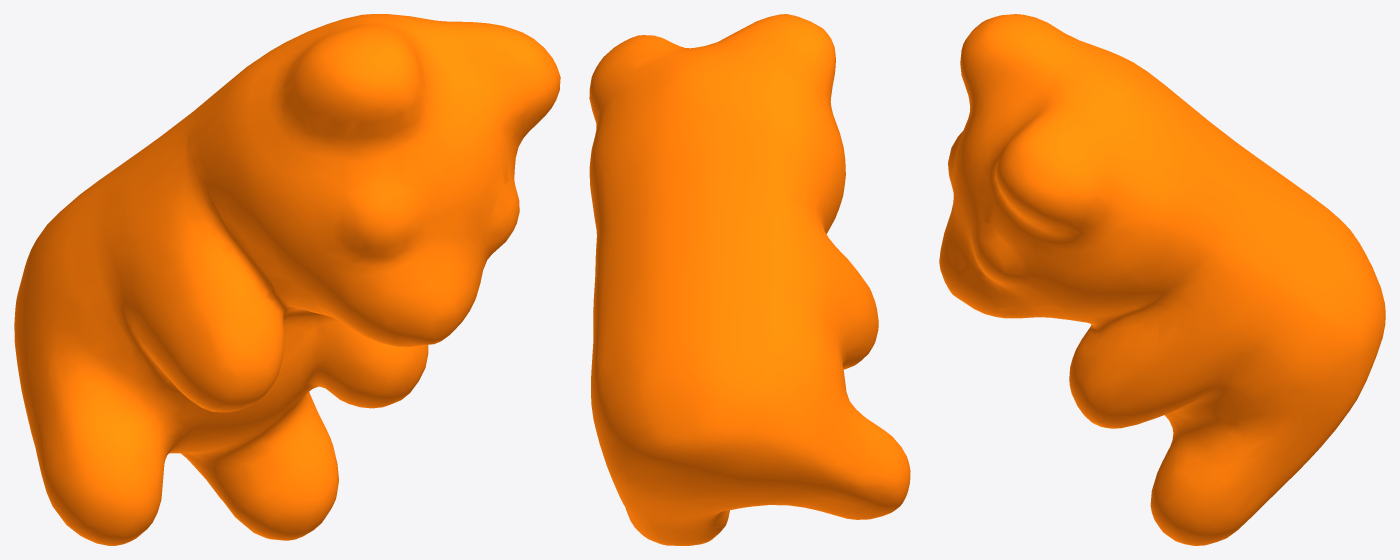
3 renders of one model, left to right at view 1: azimuth 30°, elevation 25°; view 2: azimuth 150°, elevation 25°; view 3: azimuth 270°, elevation 25°, orthographic. The views are drawn at different scales.
Parts seen in each view (by area): view 1: bear.001; view 2: bear.001; view 3: bear.001.
Boxes of the visible parts, x1,y1,x2,y2 form: bear.001: (14, 14, 560, 545); bear.001: (589, 14, 910, 545); bear.001: (939, 14, 1385, 545).
Size of the model in its own units: 0.8651 by 1.09 by 0.8669.
